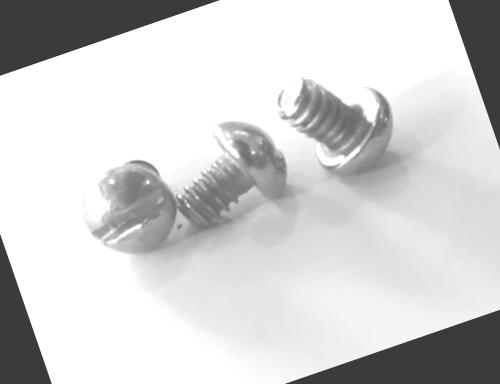slotted: (70, 151, 186, 269)
